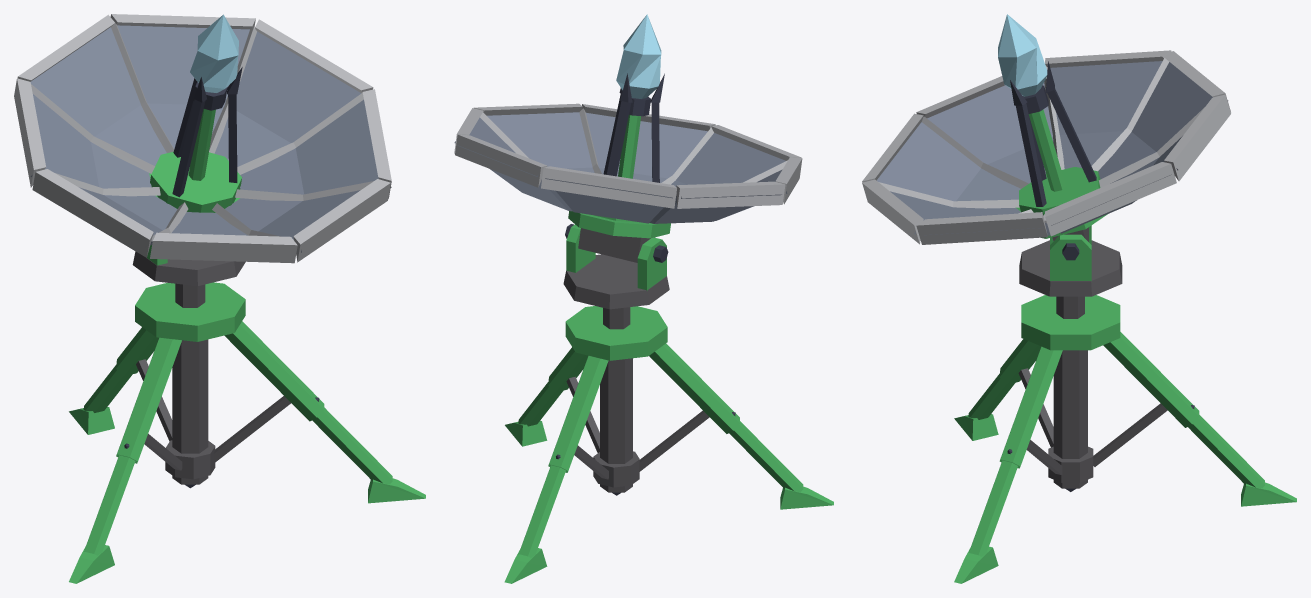
File: celestial-beacon-1cea46.glb
3 renders of one model, left to right at view 1: azimuth 30°, elevation 25°; view 2: azimuth 150°, elevation 25°; view 3: azimuth 270°, elevation 25°, orthographic. The views are drawn at different scales.
Parts seen in each view (by area): view 1: dish-mesh-metal, beacon-base-matte, beacon-base-metal, dish-mesh-matte, crystal-mesh-crystal, turntable-mesh-metal; view 2: dish-mesh-metal, beacon-base-matte, beacon-base-metal, turntable-mesh-metal, crystal-mesh-crystal, dish-mesh-matte, turntable-mesh-matte; view 3: dish-mesh-metal, beacon-base-matte, beacon-base-metal, turntable-mesh-metal, dish-mesh-matte, crystal-mesh-crystal, turntable-mesh-matte.
Part boxes in pixels (x1,y1,x2,y2): dish-mesh-metal: (14, 14, 391, 263); beacon-base-matte: (69, 282, 425, 583); beacon-base-metal: (124, 283, 319, 488); dish-mesh-matte: (149, 109, 242, 212); crystal-mesh-crystal: (190, 14, 238, 92); turntable-mesh-metal: (132, 251, 245, 286); dish-mesh-metal: (454, 73, 802, 262); beacon-base-matte: (504, 306, 833, 583); beacon-base-metal: (556, 307, 735, 495); turntable-mesh-metal: (563, 224, 669, 309); crystal-mesh-crystal: (616, 14, 661, 98); dish-mesh-matte: (568, 115, 670, 238); turntable-mesh-matte: (566, 224, 666, 290); dish-mesh-metal: (862, 50, 1230, 244); beacon-base-matte: (954, 295, 1296, 583); beacon-base-metal: (1007, 296, 1194, 491); turntable-mesh-metal: (1019, 240, 1122, 296); dish-mesh-matte: (1015, 109, 1107, 238); crystal-mesh-crystal: (998, 14, 1047, 96); turntable-mesh-matte: (1050, 225, 1091, 281).
Size of the model in its own units: 0.5535 by 0.7501 by 0.6079.
